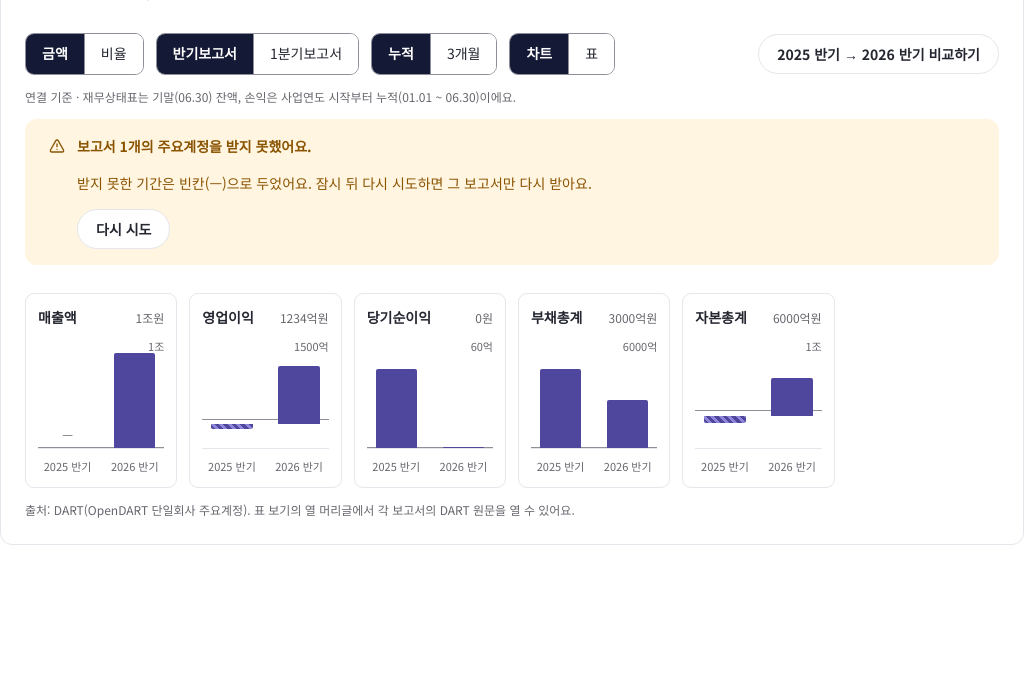
it: 재무 비율 보기 › 정정 공시 값이면 그 공시의 원문을 연다
Expected: the element named "보여 줄 값" is shown, [25, 33, 144, 75]
Click the button "비율" at (113, 54), box [84, 34, 143, 74]
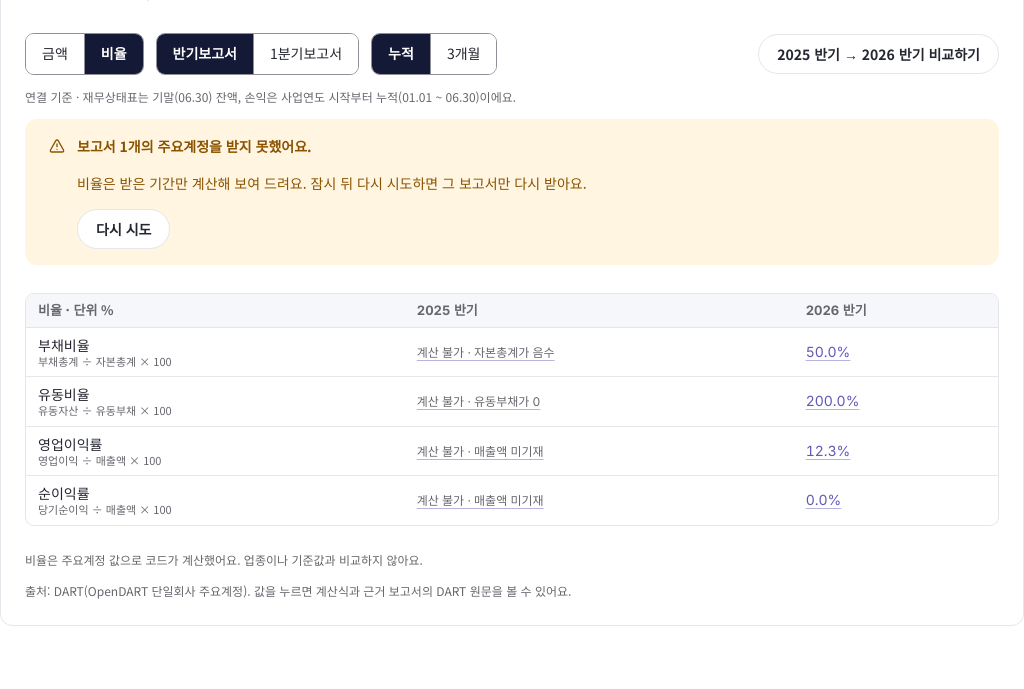
Click the button with aria-label "2025 반기 부채비율 계산 불가 · 자본총계가 음수" at (486, 353), box [417, 345, 555, 360]
(page scrolled)
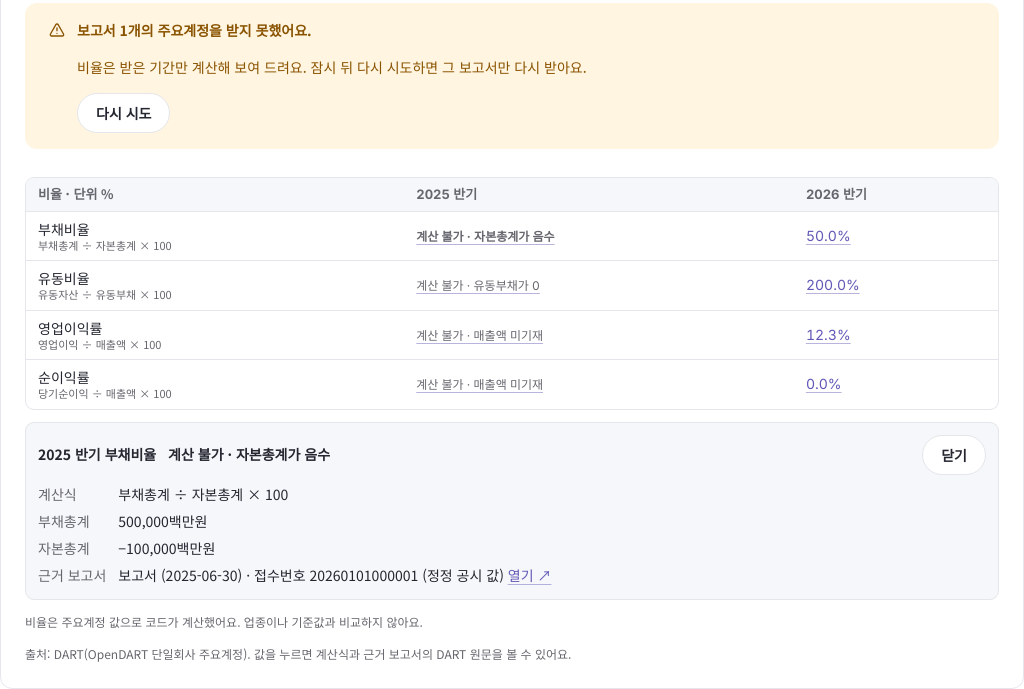
Expected: the text "−100,000백만원" is shown, [118, 538, 215, 558]
Expected: the text "보고서 (2025-06-30) · 접수번호 20260101000001 (정정 공시 값) 열기 ↗" is shown, [118, 565, 551, 585]
